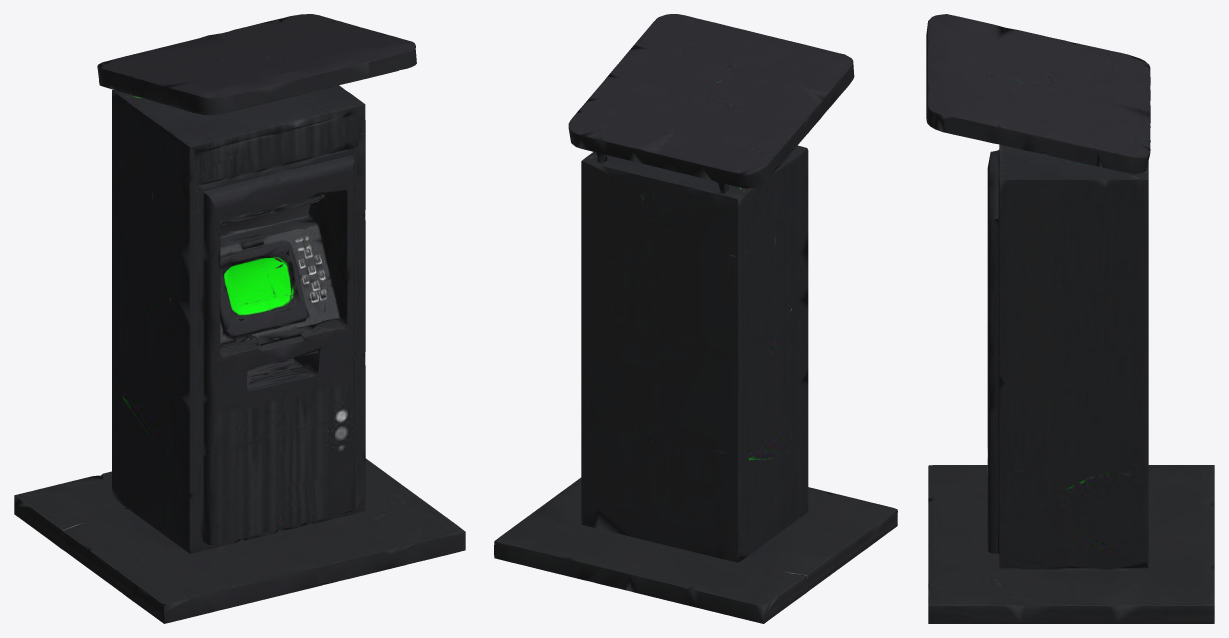
Rendered from co_atm_p.glb.
3 renders of one model, left to right at view 1: azimuth 30°, elevation 25°; view 2: azimuth 150°, elevation 25°; view 3: azimuth 270°, elevation 25°, orthographic. The views are drawn at different scales.
Bounding box in the file's own units: 1.17 × 1.9 × 1.01.
1 material, 1 textured.
